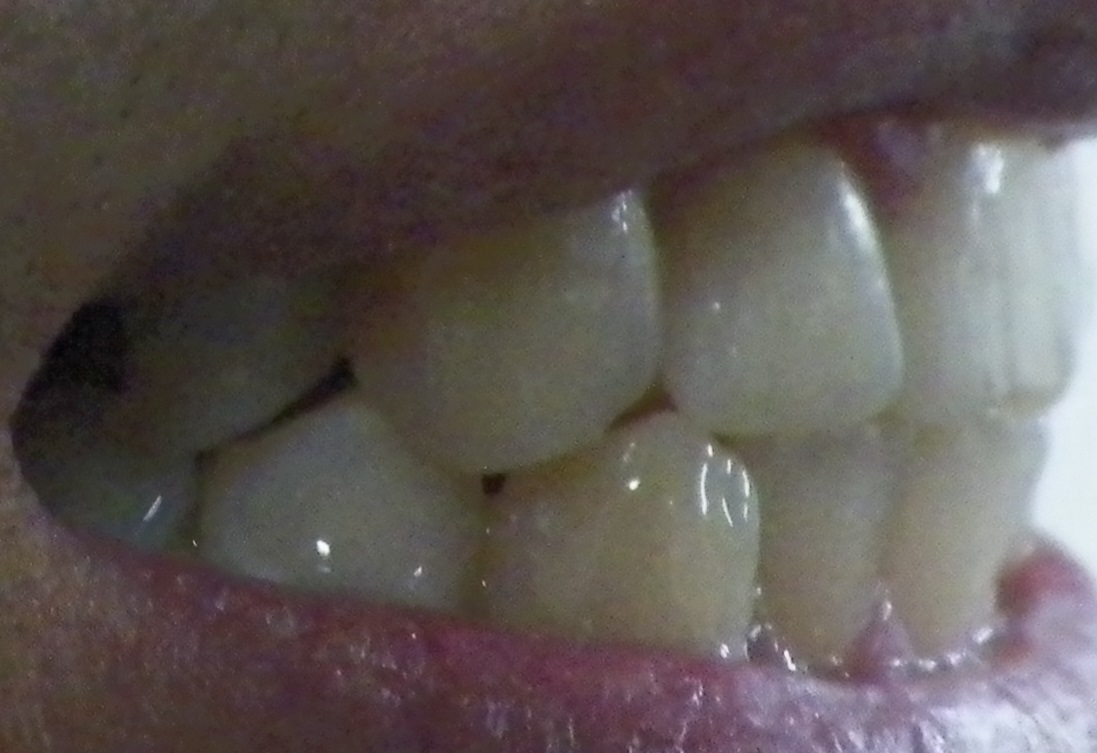boca: (12, 145, 1087, 664)
